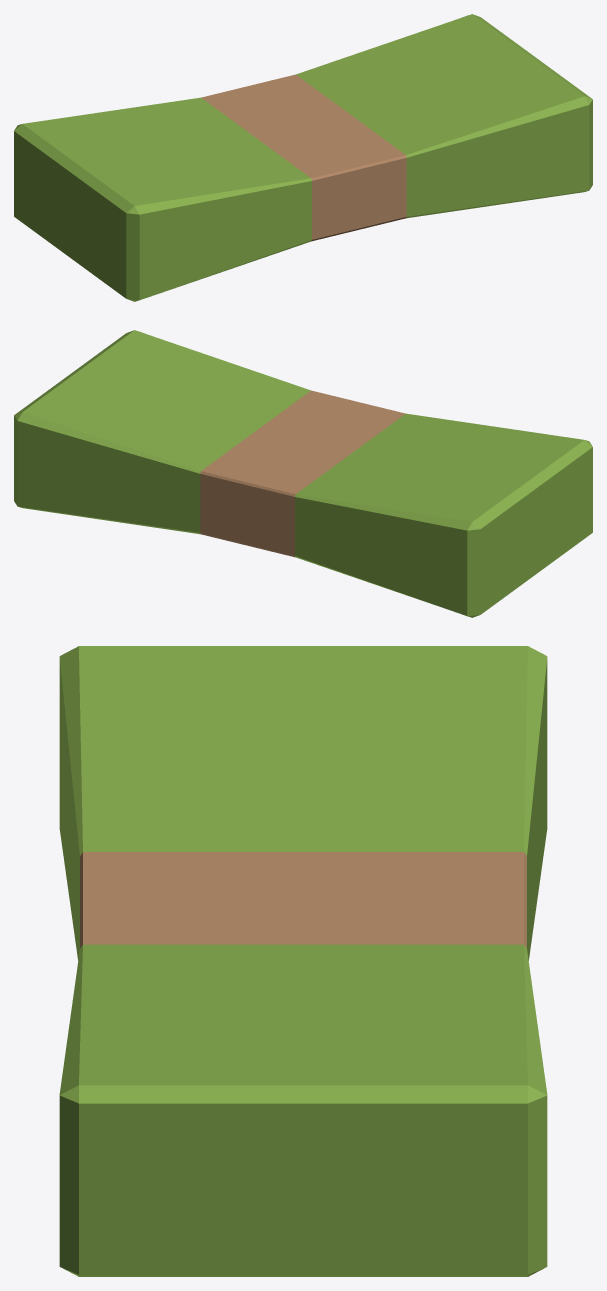
File: Money.fbx
3 views of the same model, one above another, from view 1: azimuth 30°, elevation 25°; view 2: azimuth 150°, elevation 25°; view 3: azimuth 270°, elevation 25° (orthographic). The views are drawn at different scales.
Parts seen in each view (by area): view 1: Money; view 2: Money; view 3: Money.
Part boxes in pixels (x1,y1,x2,y2): Money: [14, 14, 592, 301]; Money: [14, 330, 592, 617]; Money: [59, 646, 547, 1276].
Bounding box in the file's own units: 0.1536 × 0.0301 × 0.0695.
1 material, 1 textured.
